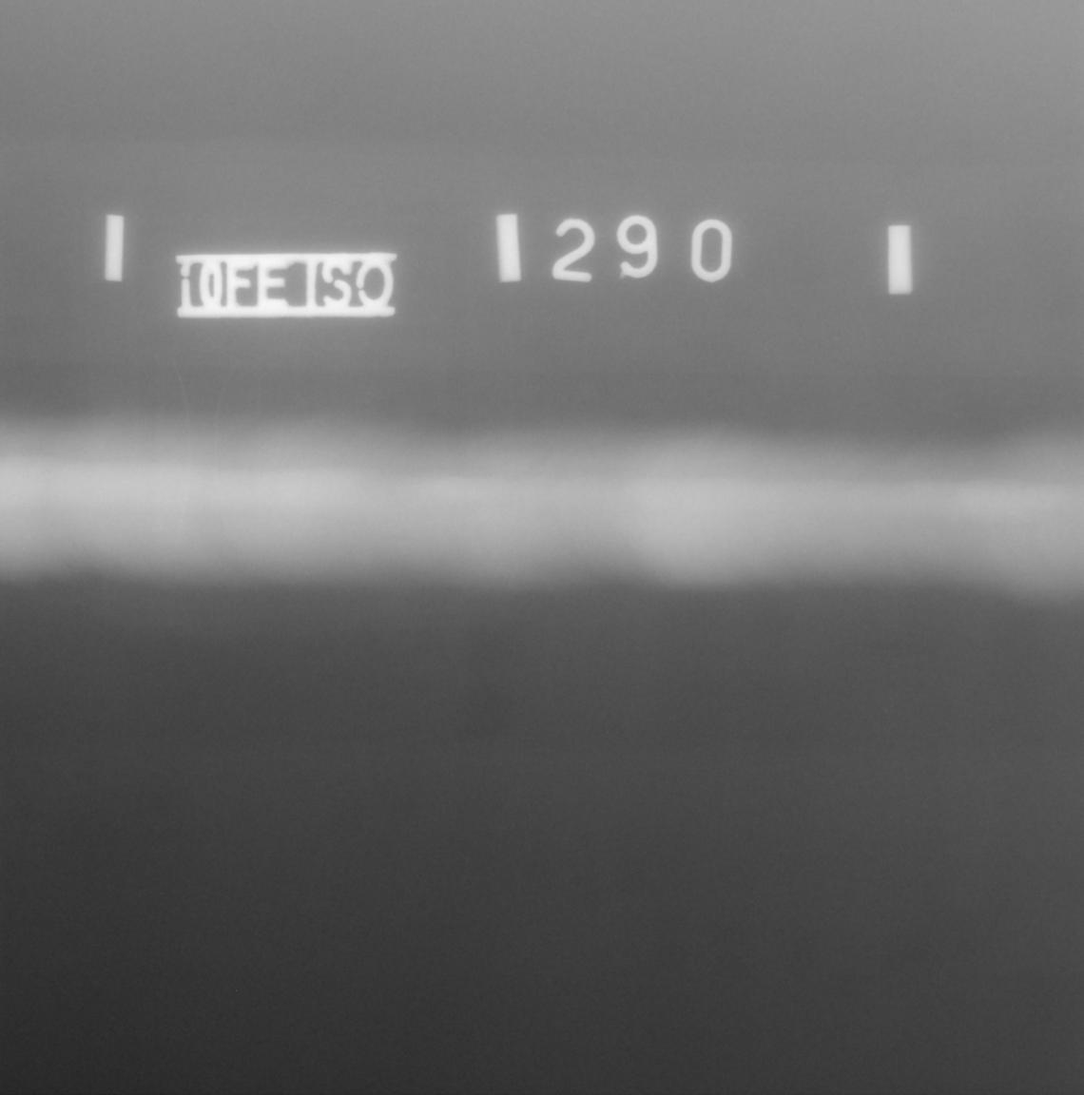Inclusion: (380, 536, 411, 540)
